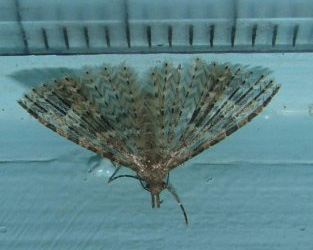Alucitidae: (15, 52, 282, 224)
moth: (17, 54, 284, 226)
